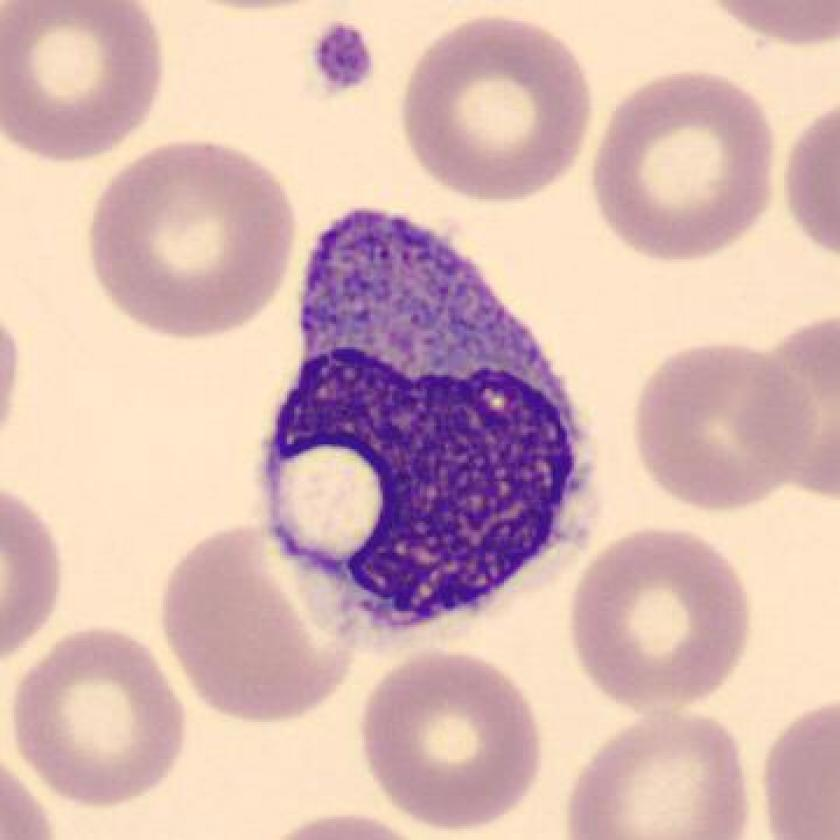monocyte: (232, 186, 624, 670)
